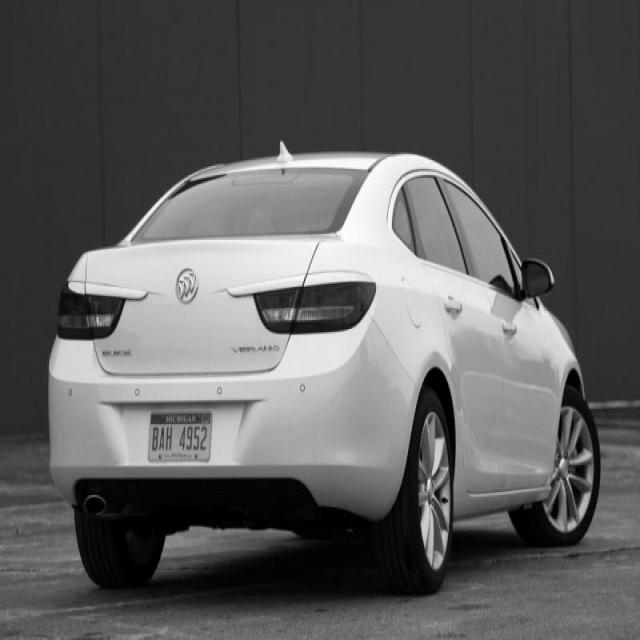car: (46, 139, 601, 596)
plat_license: (147, 409, 212, 462)
